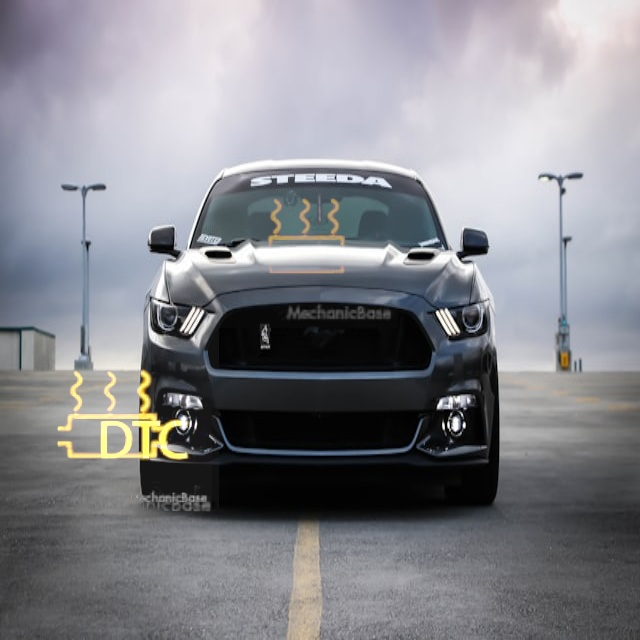symbol: (6, 309, 219, 522), (216, 146, 398, 328), (76, 373, 212, 509)
